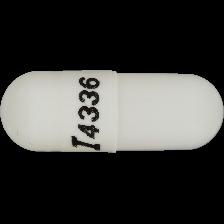53808-0305: (0, 0, 224, 224)
